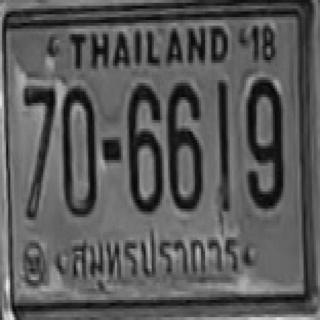N00: (61, 86, 95, 214)
N01: (216, 78, 229, 210)
N06: (127, 83, 162, 212), (166, 80, 201, 208)
N07: (24, 86, 54, 217)
N09: (244, 77, 283, 206)
P57: (65, 223, 246, 284)
